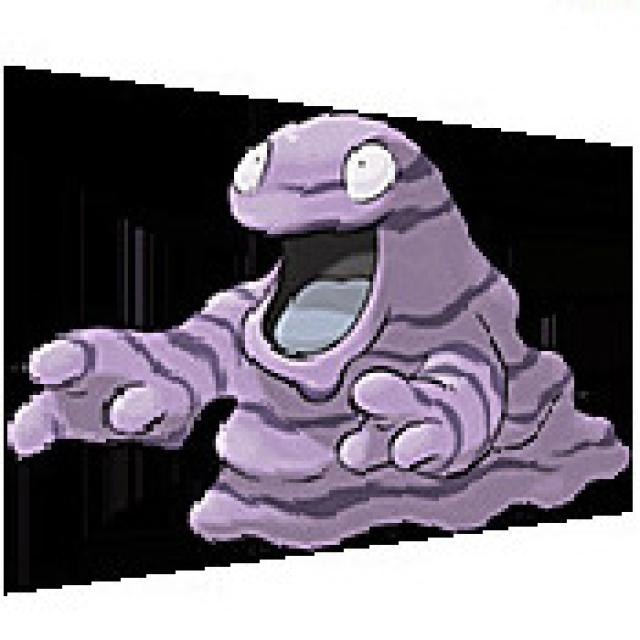Grimer: (156, 112, 526, 526)
